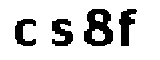8: (81, 7, 113, 51)
c: (14, 16, 39, 50)
f: (115, 6, 140, 48)
s: (48, 15, 76, 49)
